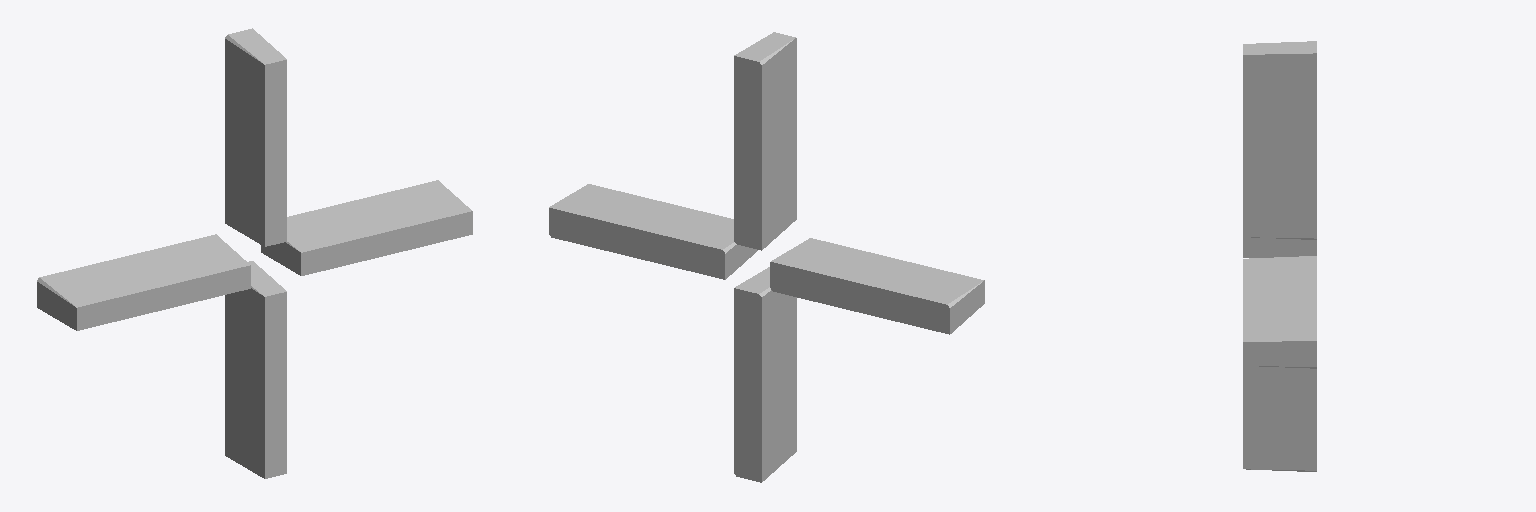
The model's file is Mira.obj.
3 views of the same model, side by side, from view 1: azimuth 30°, elevation 25°; view 2: azimuth 150°, elevation 25°; view 3: azimuth 270°, elevation 25° (orthographic).
Visible parts, largest first — view 1: mira; view 2: mira; view 3: mira.
Boxes of the visible parts, <box> form: mira: <box>37,28,472,478</box>; mira: <box>549,32,984,482</box>; mira: <box>1243,41,1316,471</box>.
Bounding box in the file's own units: 35.75 × 35.75 × 5.76.